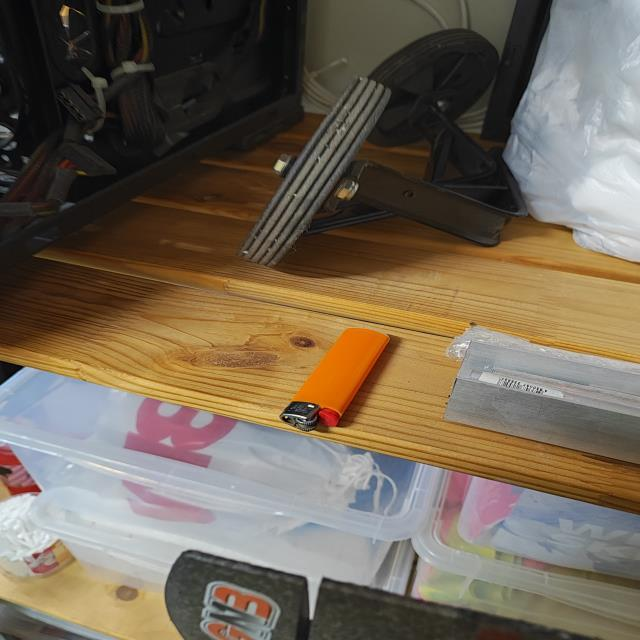lighter: (276, 329, 389, 432)
